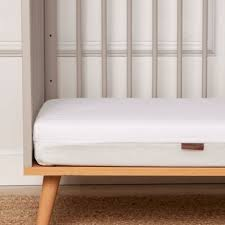bed-matress: (29, 95, 225, 168)
